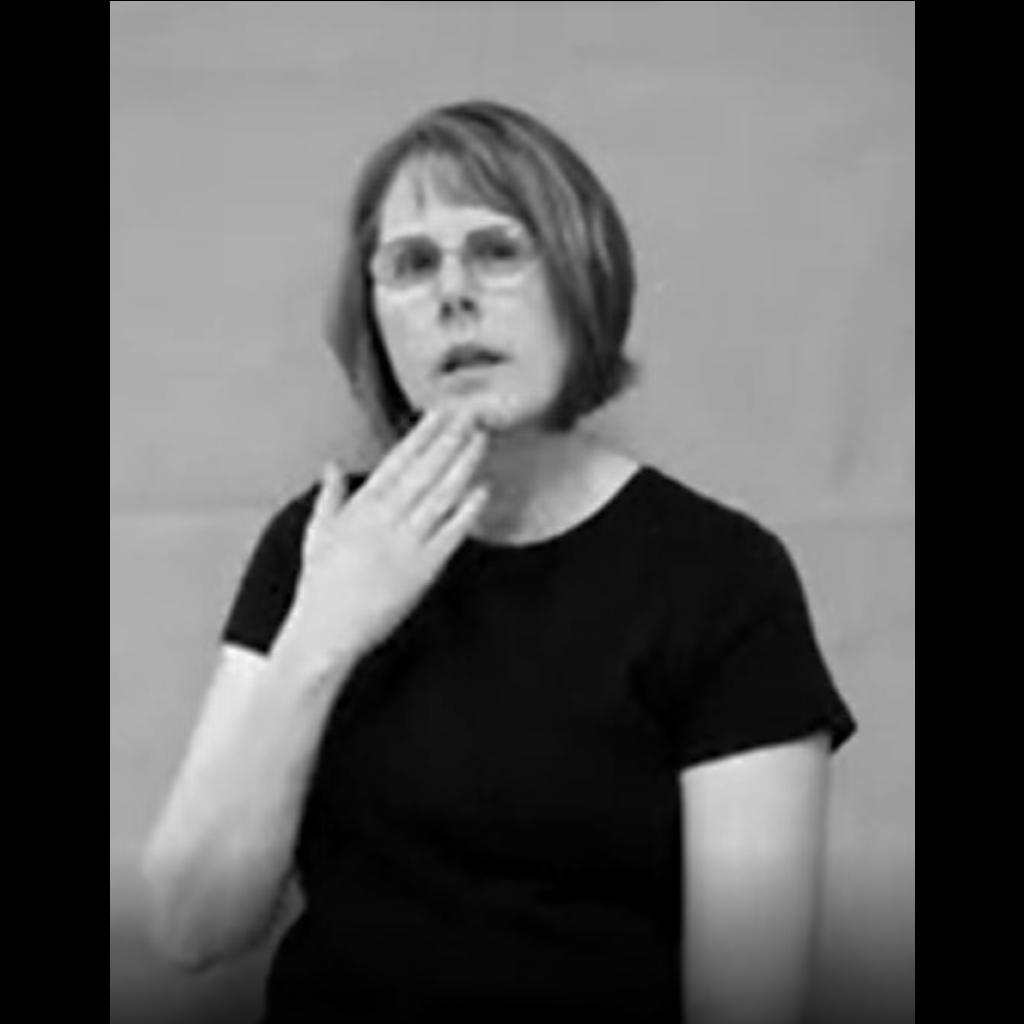thank-you: (302, 404, 492, 652)
